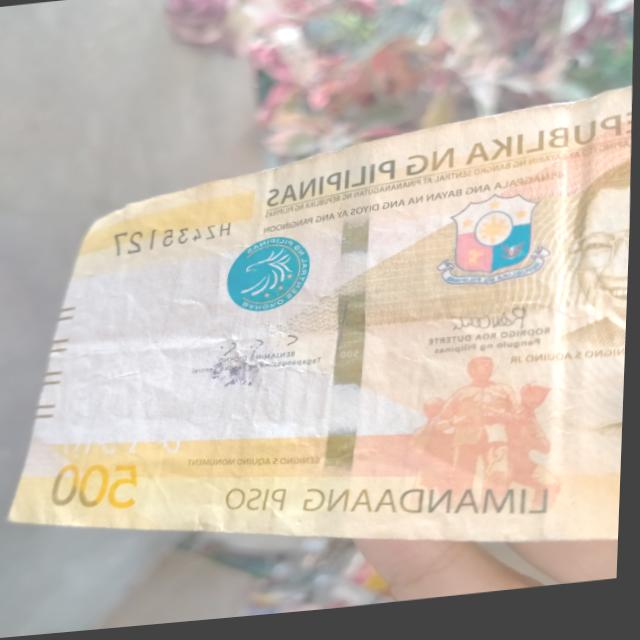security_thread: (308, 138, 387, 545)
see_through_mark: (47, 414, 203, 473)
serial_number: (102, 208, 246, 266)
